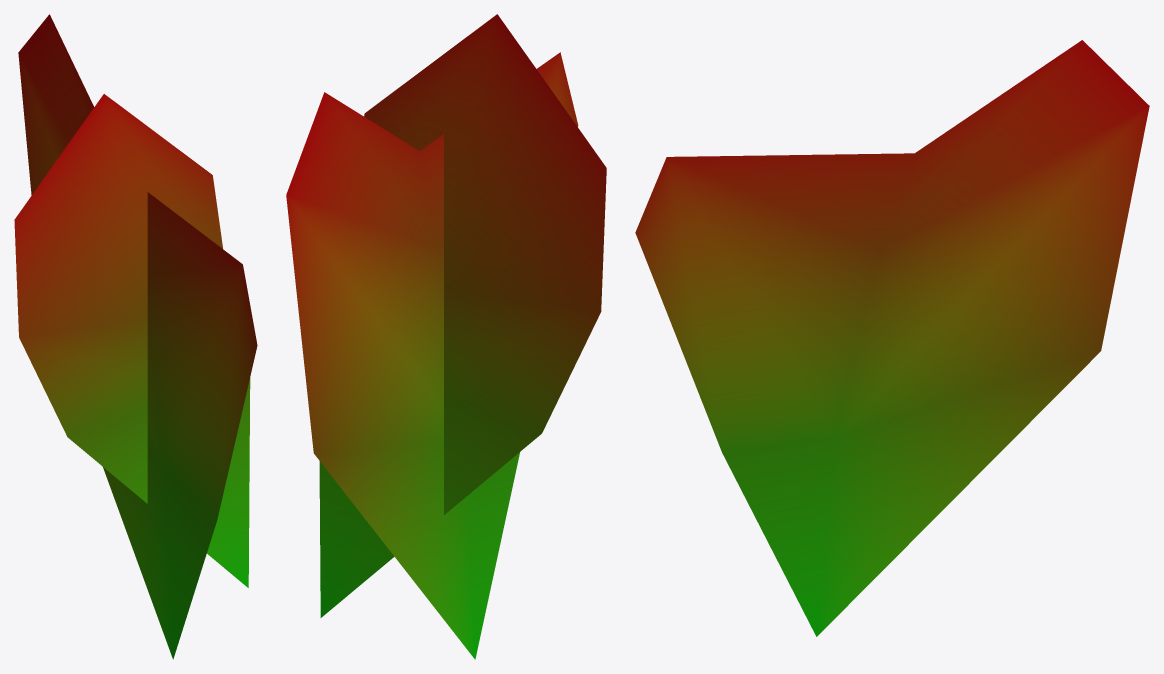
The model's file is Downy Willow_LOD6_Var16_wknlfiuqx.fbx.
3 renders of one model, left to right at view 1: azimuth 30°, elevation 25°; view 2: azimuth 150°, elevation 25°; view 3: azimuth 270°, elevation 25°, orthographic. The views are drawn at different scales.
Parts seen in each view (by area): view 1: _zh62_Var16_LOD6; view 2: _zh62_Var16_LOD6; view 3: _zh62_Var16_LOD6.
Boxes of the visible parts, <box> form: _zh62_Var16_LOD6: <box>14,14,257,659</box>; _zh62_Var16_LOD6: <box>286,14,606,659</box>; _zh62_Var16_LOD6: <box>635,40,1149,636</box>.
Bounding box in the file's own units: 79.05 × 179 × 139.
